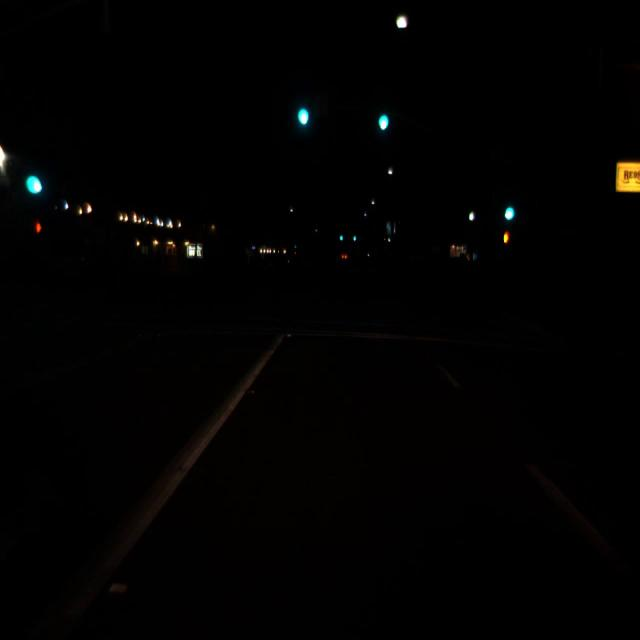go: (27, 177, 40, 193), (298, 109, 308, 123), (379, 116, 388, 129), (506, 208, 514, 218), (340, 236, 342, 239), (354, 237, 356, 240)
go traffic light: (21, 152, 44, 202), (294, 90, 310, 130), (374, 96, 390, 136), (502, 192, 516, 222), (339, 232, 343, 240), (352, 234, 356, 242)
